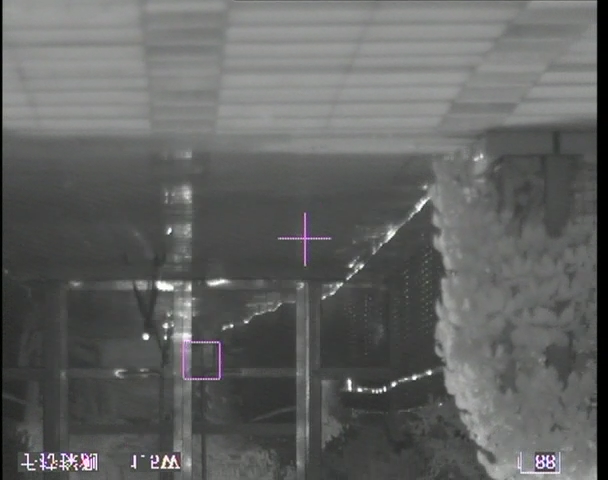my: (141, 332, 150, 341)
